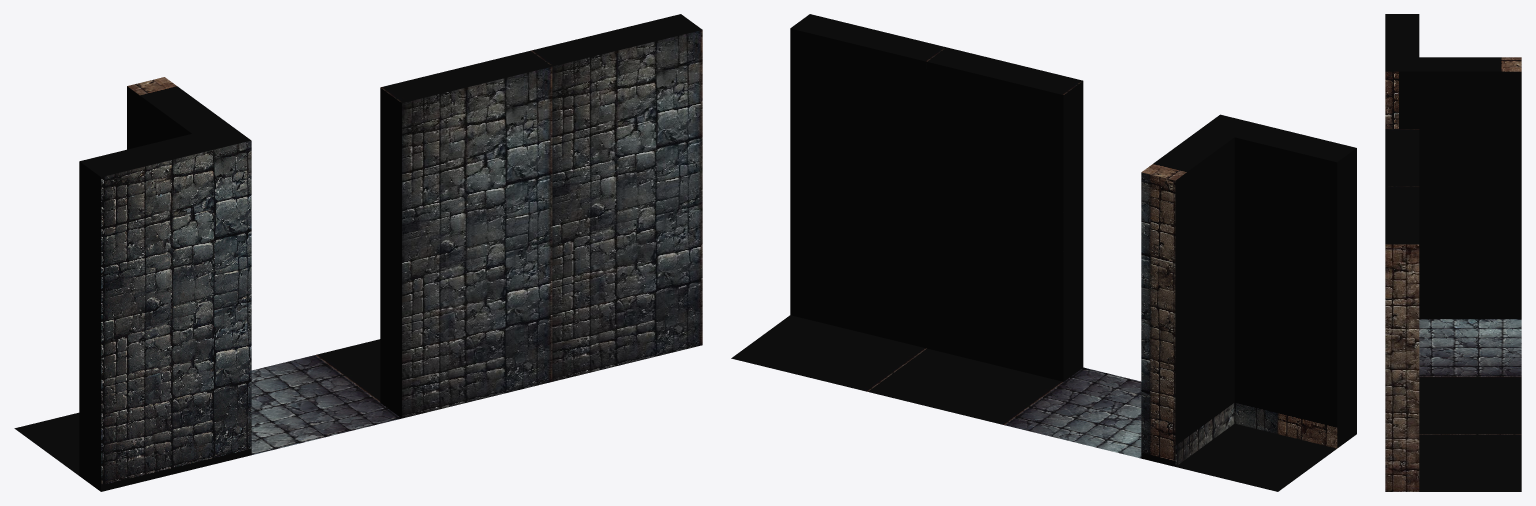
The model's file is Hero_Quest_Kit_1.glb.
3 renders of one model, left to right at view 1: azimuth 30°, elevation 25°; view 2: azimuth 150°, elevation 25°; view 3: azimuth 270°, elevation 25°, orthographic. The views are drawn at different scales.
Visible parts, largest first — view 1: Corner, Wall, Wall.001, Tile_Floor; view 2: Corner, Wall, Wall.001, Tile_Floor; view 3: Corner, Wall.001, Wall, Tile_Floor.
Boxes of the visible parts, left/top/right/bottom form: Corner: left=14, top=77, right=251, bottom=491; Wall: left=315, top=50, right=552, bottom=418; Wall.001: left=531, top=14, right=702, bottom=381; Tile_Floor: left=251, top=355, right=401, bottom=454; Corner: left=1141, top=114, right=1356, bottom=491; Wall: left=868, top=47, right=1083, bottom=425; Wall.001: left=731, top=14, right=946, bottom=391; Tile_Floor: left=1005, top=367, right=1141, bottom=458; Corner: left=1385, top=14, right=1521, bottom=318; Wall.001: left=1385, top=186, right=1521, bottom=491; Wall: left=1385, top=129, right=1521, bottom=434; Tile_Floor: left=1419, top=319, right=1521, bottom=376.
Size of the model in its own units: 4 by 2 by 1.
Materials: 3 (3 with a texture image).
